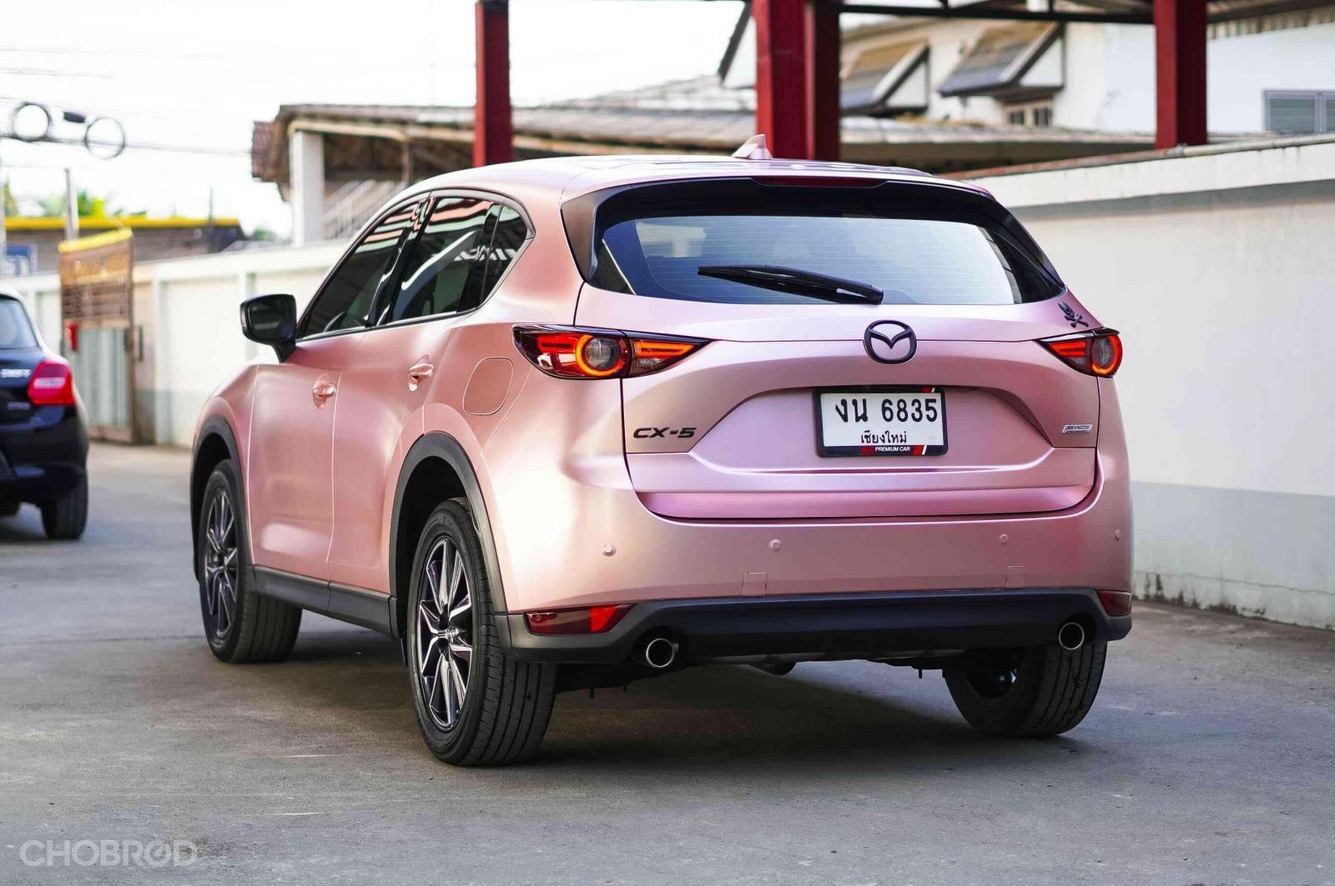license-plate: (807, 376, 955, 467)
